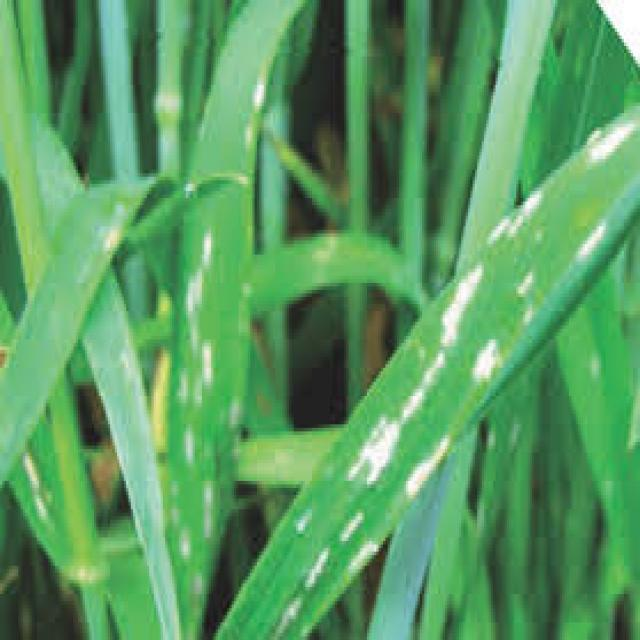wheat-powdery-mildew: (272, 115, 627, 623), (170, 212, 251, 619)
